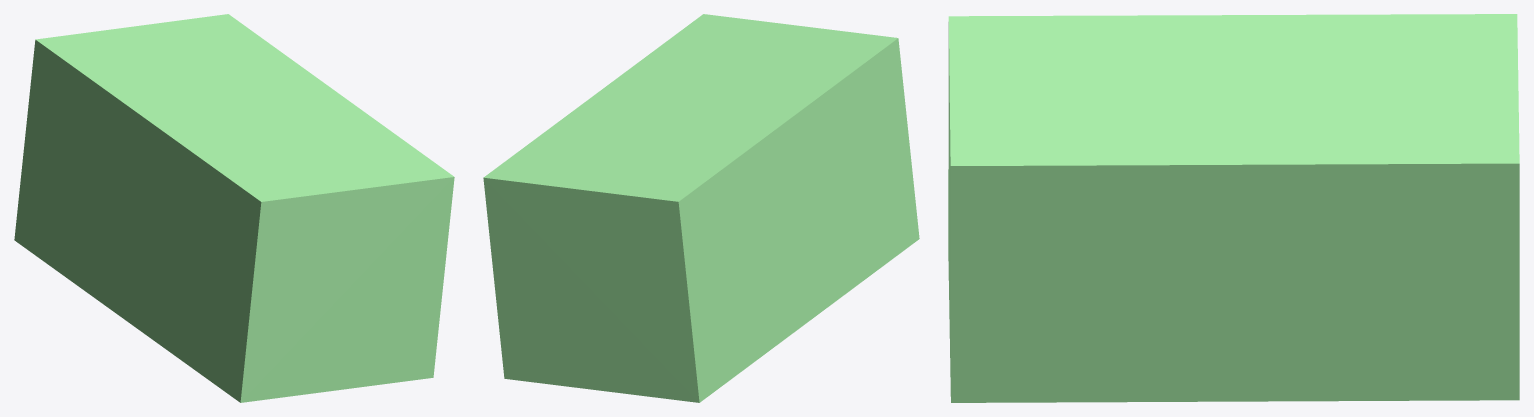
File: UMIRobot_UMIRobot_link_4_convex_coll_15.dae
3 views of the same model, side by side, from view 1: azimuth 30°, elevation 25°; view 2: azimuth 150°, elevation 25°; view 3: azimuth 270°, elevation 25° (orthographic). The views are drawn at different scales.
Visible parts, largest first — view 1: node; view 2: node; view 3: node.
Part boxes in pixels (x1,y1,x2,y2): node: [14, 14, 454, 402]; node: [483, 14, 919, 402]; node: [948, 14, 1519, 402].
Bounding box in the file's own units: 0.0229 × 0.022 × 0.0407.
